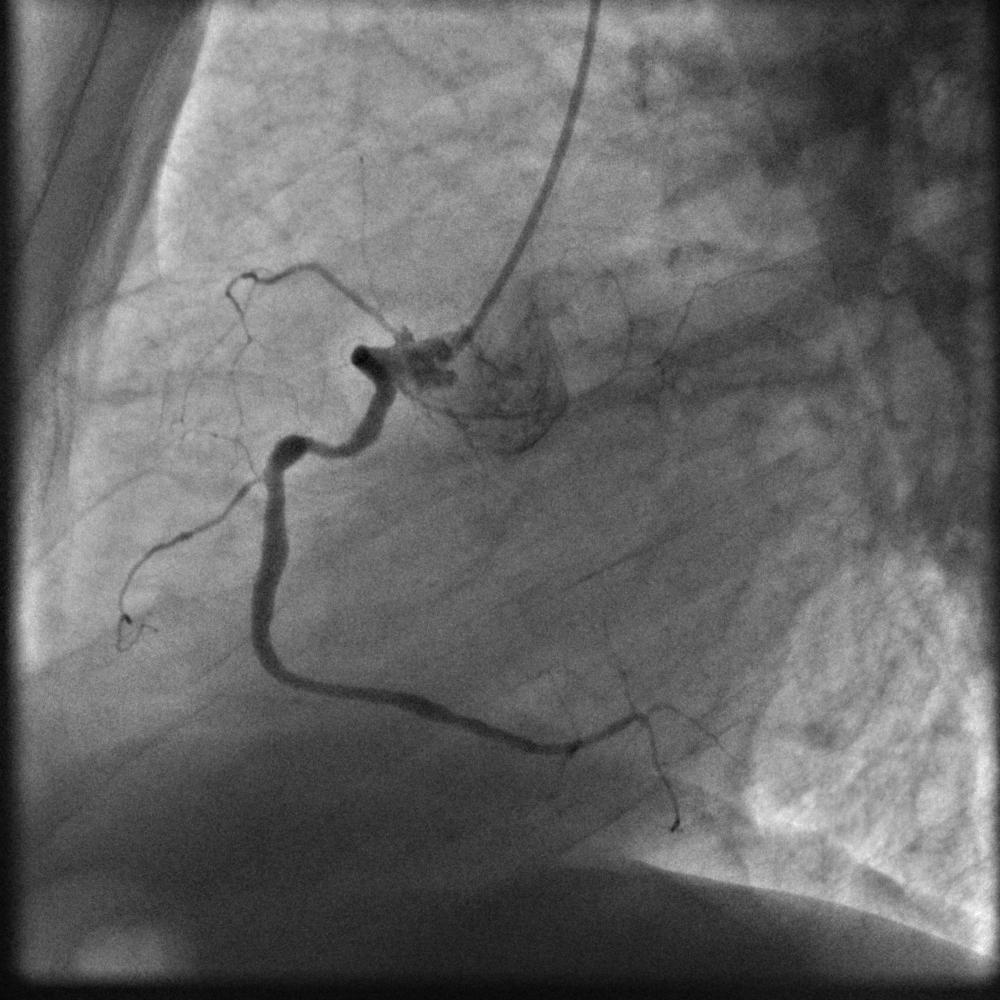Stenosis: (302, 434, 340, 464)
